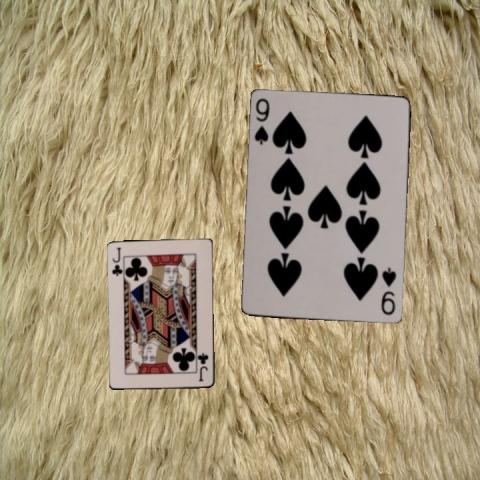9s: (378, 264, 398, 316), (252, 96, 272, 147)
Jc: (109, 245, 124, 277), (197, 350, 210, 383)
